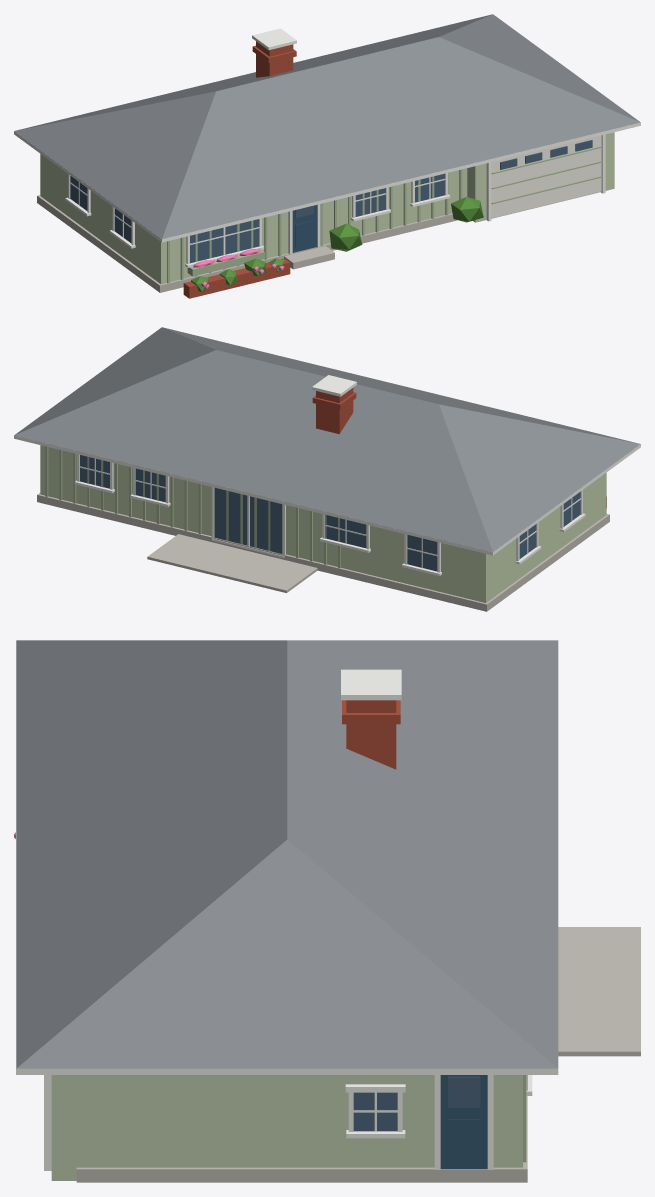
The model's file is ranch-house.glb.
The picture shows the model from 3 angles, top to bottom: view 1: azimuth 30°, elevation 25°; view 2: azimuth 150°, elevation 25°; view 3: azimuth 270°, elevation 25°; orthographic projection. The views are drawn at different scales.
Parts seen in each view (by area): view 1: RanchHouse_Roof, RanchHouse_Walls, RanchHouse_Frames, RanchHouse_Garage, RanchHouse_Glass, RanchHouse_Trim, RanchHouse_Foundation, RanchHouse_Brick, RanchHouse_Leaves, RanchHouse_Door, RanchHouse_Flowers; view 2: RanchHouse_Roof, RanchHouse_Walls, RanchHouse_Foundation, RanchHouse_Glass, RanchHouse_Frames, RanchHouse_Trim, RanchHouse_Brick; view 3: RanchHouse_Roof, RanchHouse_Walls, RanchHouse_Foundation, RanchHouse_Frames, RanchHouse_Door, RanchHouse_Brick, RanchHouse_Glass.
Boxes of the visible parts, x1=… form: RanchHouse_Roof: x1=14, y1=14, x2=640, y2=239; RanchHouse_Walls: x1=40, y1=132, x2=614, y2=284; RanchHouse_Frames: x1=14, y1=28, x2=640, y2=267; RanchHouse_Garage: x1=491, y1=135, x2=601, y2=218; RanchHouse_Glass: x1=70, y1=140, x2=592, y2=263; RanchHouse_Trim: x1=167, y1=146, x2=600, y2=283; RanchHouse_Foundation: x1=37, y1=195, x2=457, y2=292; RanchHouse_Brick: x1=183, y1=41, x2=296, y2=298; RanchHouse_Leaves: x1=191, y1=197, x2=483, y2=291; RanchHouse_Door: x1=292, y1=205, x2=316, y2=252; RanchHouse_Flowers: x1=193, y1=248, x2=284, y2=288; RanchHouse_Roof: x1=14, y1=327, x2=640, y2=551; RanchHouse_Walls: x1=40, y1=445, x2=606, y2=602; RanchHouse_Foundation: x1=37, y1=493, x2=609, y2=611; RanchHouse_Glass: x1=80, y1=455, x2=580, y2=571; RanchHouse_Frames: x1=14, y1=375, x2=640, y2=575; RanchHouse_Trim: x1=45, y1=446, x2=340, y2=568; RanchHouse_Brick: x1=312, y1=388, x2=606, y2=507; RanchHouse_Roof: x1=16, y1=640, x2=558, y2=1068; RanchHouse_Walls: x1=51, y1=1075, x2=522, y2=1180; RanchHouse_Foundation: x1=76, y1=927, x2=640, y2=1182; RanchHouse_Frames: x1=16, y1=640, x2=558, y2=1170; RanchHouse_Door: x1=440, y1=1075, x2=487, y2=1168; RanchHouse_Brick: x1=342, y1=700, x2=400, y2=769; RanchHouse_Glass: x1=353, y1=1076, x2=480, y2=1131.
Size of the model in its own units: 68.8 by 20.4 by 42.55.
